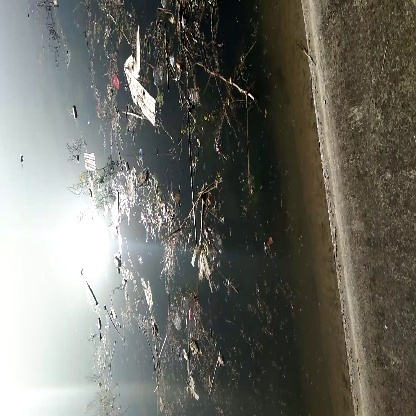plastic-bag: (122, 33, 163, 128)
